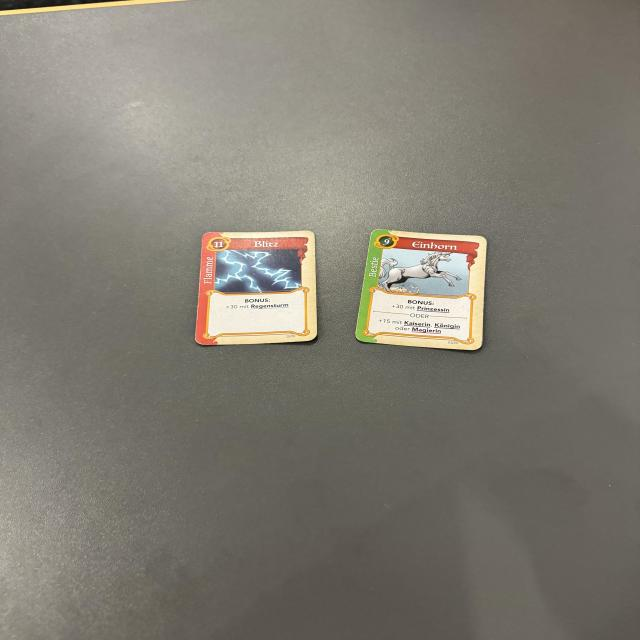Lightning: (193, 231, 317, 347)
Unicorn: (353, 226, 486, 353)
